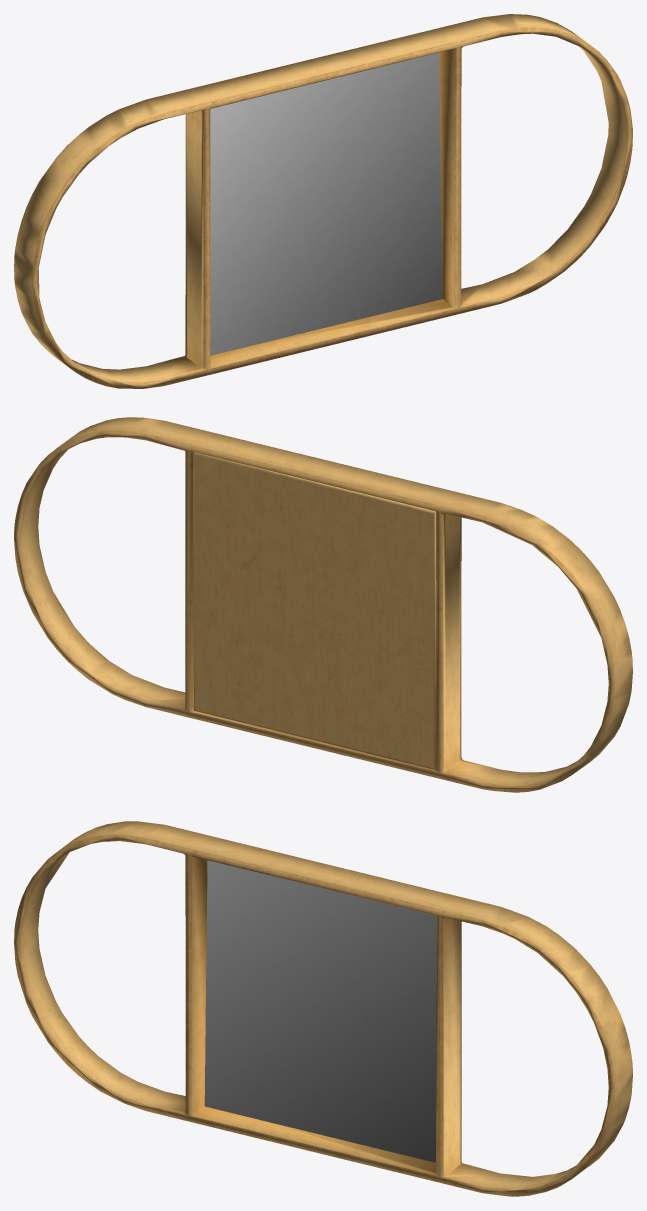
The model's file is abo-B084HV67GW.glb.
3 views of the same model, one above another, from view 1: azimuth 30°, elevation 25°; view 2: azimuth 150°, elevation 25°; view 3: azimuth 330°, elevation 25° (orthographic).
Parts seen in each view (by area): view 1: RootNode; view 2: RootNode; view 3: RootNode.
Part boxes in pixels (left/top/right/bottom): RootNode: left=14, top=14, right=632, bottom=388; RootNode: left=14, top=417, right=632, bottom=792; RootNode: left=14, top=821, right=632, bottom=1196.
Bounding box in the file's own units: 0.5837 × 0.2532 × 0.0318.
Materials: 1 (1 with a texture image).
